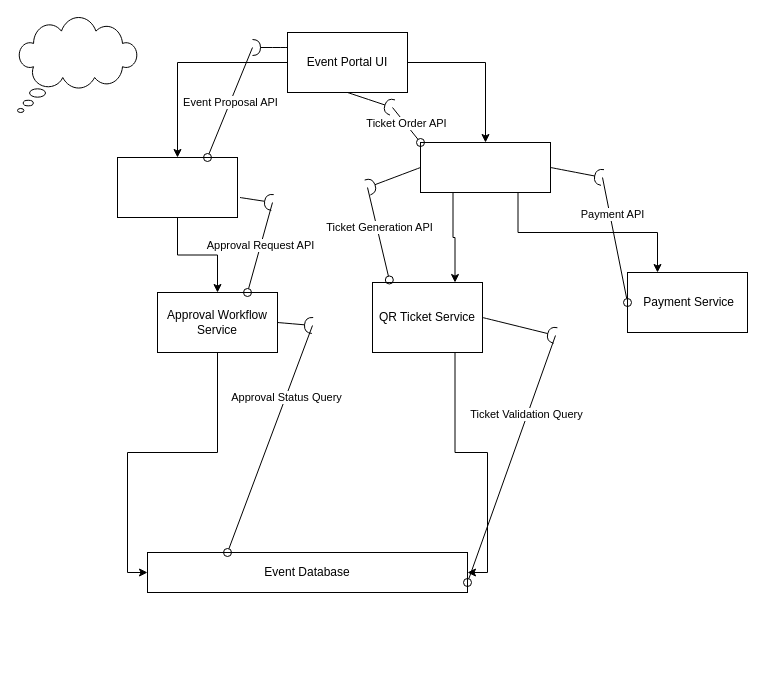
Some shapes in this 765 by 680 pixel diagram are drawn without their labels. The centre of each missing label's shape, as x and y in pixels:
"Event Proposal Manager" goes at point (177, 187).
"Order Manager" goes at point (485, 167).
"PES1UG24CS136 , D Harikrishnan" goes at point (77, 64).
